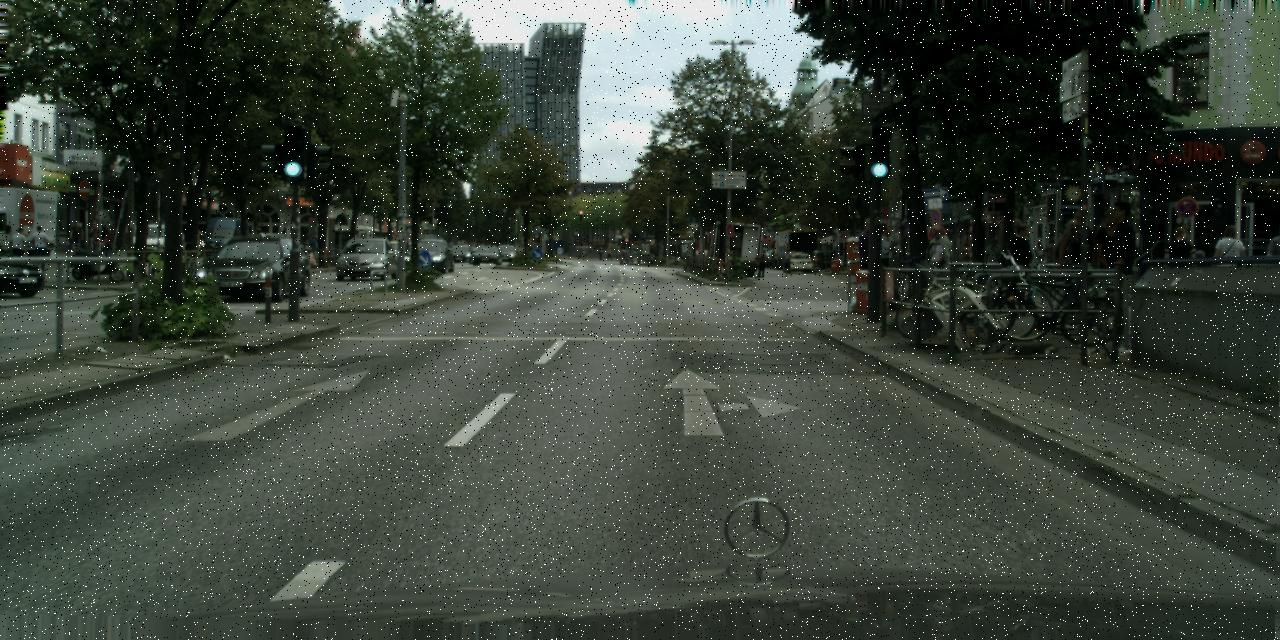ped: (1100, 200, 1147, 314), (1058, 208, 1100, 313), (1091, 208, 1131, 306), (999, 219, 1037, 313), (1212, 225, 1246, 309), (851, 218, 884, 299), (1164, 226, 1196, 305), (871, 223, 901, 296), (922, 224, 952, 297), (983, 237, 1003, 287), (30, 225, 48, 273), (10, 227, 28, 272), (69, 220, 82, 252), (756, 249, 768, 277), (306, 235, 318, 262), (253, 227, 264, 255), (88, 220, 98, 249), (782, 248, 792, 276), (101, 220, 108, 250), (302, 238, 312, 248), (770, 250, 776, 266), (606, 248, 612, 260), (598, 246, 602, 258), (313, 236, 318, 240)
